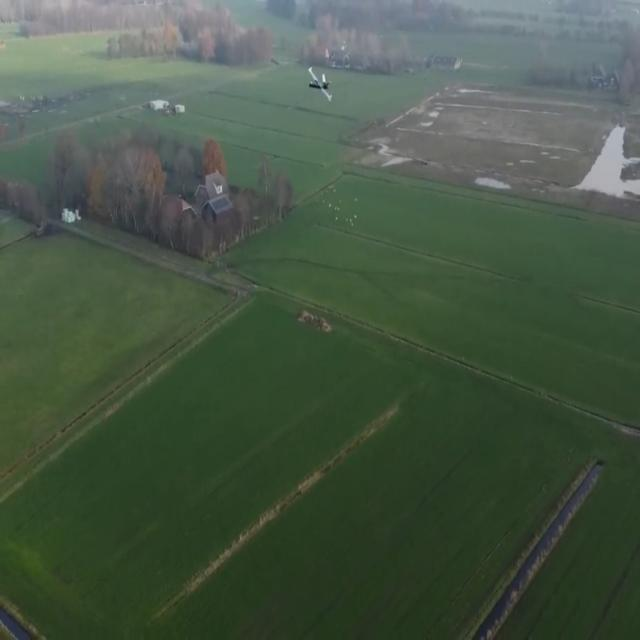iha: (306, 0, 335, 44)
